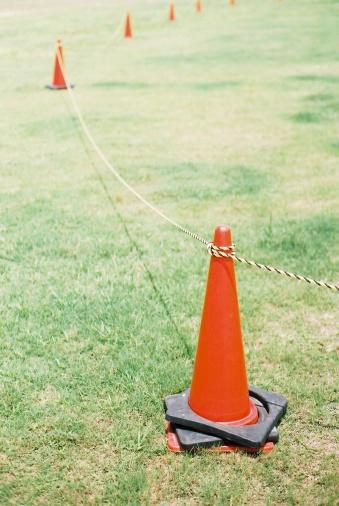Cone: (168, 228, 285, 455), (47, 37, 74, 93), (123, 10, 133, 38), (167, 1, 175, 20), (195, 1, 205, 13)
